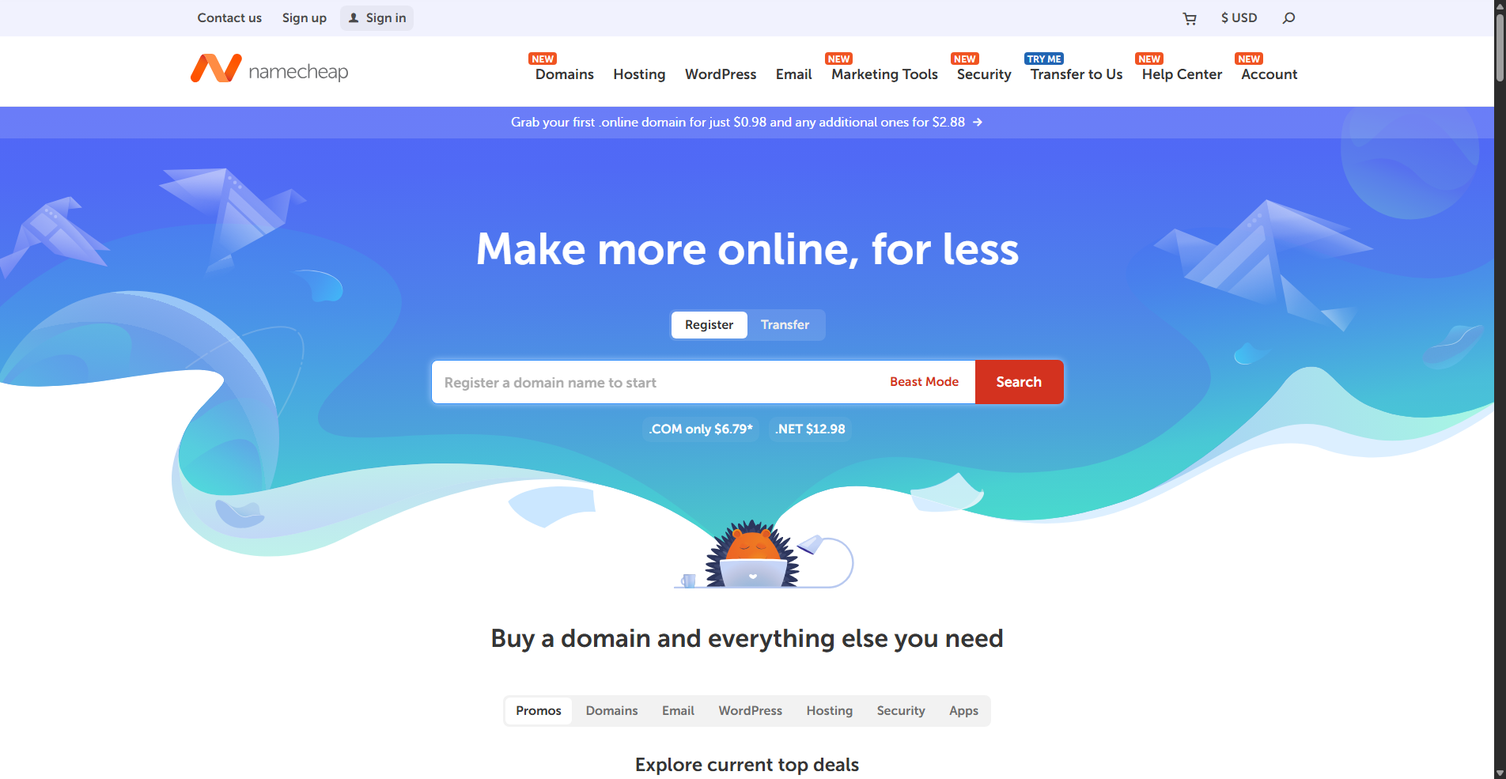button: (975, 360, 1063, 404), (880, 363, 969, 401), (708, 698, 792, 724), (190, 6, 269, 31), (575, 698, 648, 724), (340, 6, 413, 31), (867, 698, 936, 724), (505, 698, 572, 724), (796, 698, 863, 724), (1235, 62, 1304, 87), (1211, 3, 1268, 33), (275, 6, 334, 31), (652, 698, 705, 724), (939, 698, 989, 724), (1175, 3, 1205, 33), (1274, 3, 1304, 33), (671, 312, 681, 322)
dropdown: (825, 62, 944, 87), (1024, 62, 1129, 87), (1135, 62, 1229, 87), (678, 62, 763, 87), (190, 6, 269, 31), (340, 6, 413, 31), (529, 62, 600, 87), (1235, 62, 1304, 87), (1211, 3, 1268, 33), (951, 62, 1018, 87), (607, 62, 672, 87), (769, 62, 818, 87), (1175, 3, 1205, 33)
input: (431, 360, 1063, 404)
label: (671, 312, 747, 338), (747, 312, 823, 338)
link: (511, 115, 983, 130), (190, 54, 348, 82), (825, 62, 944, 87), (1024, 62, 1129, 87), (1135, 62, 1229, 87), (678, 62, 763, 87), (529, 62, 600, 87), (951, 62, 1018, 87), (607, 62, 672, 87), (769, 62, 818, 87), (649, 422, 682, 437), (775, 422, 803, 437)
